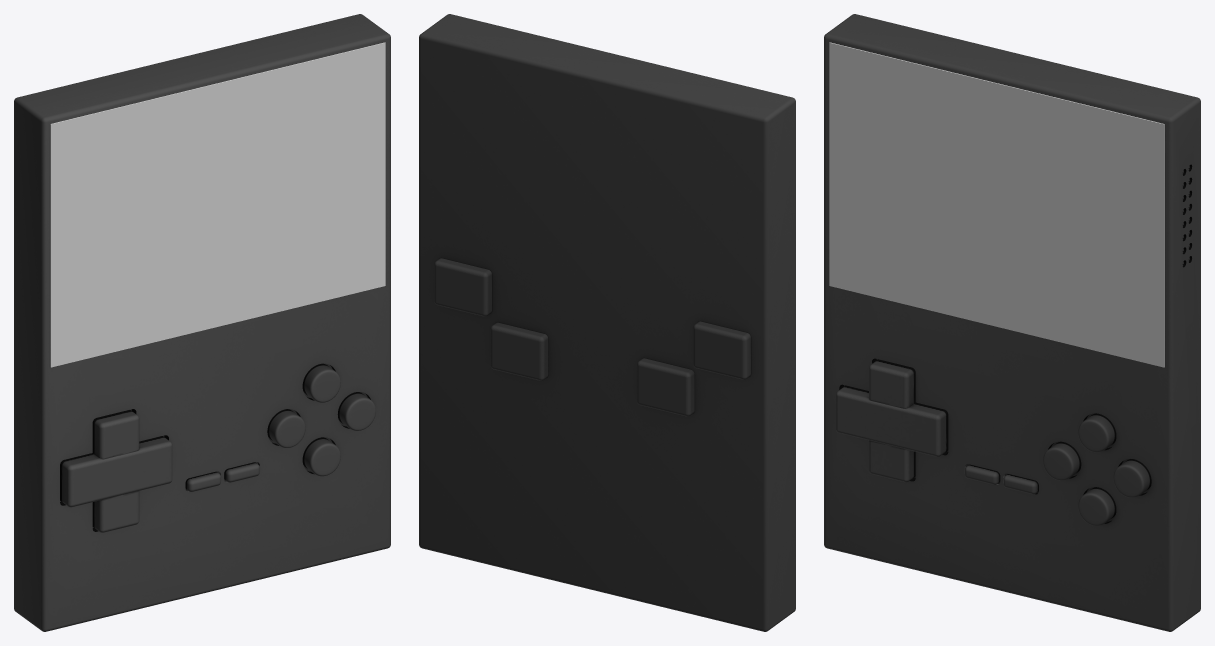
File: handheld_v4.glb
3 views of the same model, side by side, from view 1: azimuth 30°, elevation 25°; view 2: azimuth 150°, elevation 25°; view 3: azimuth 330°, elevation 25° (orthographic).
Visible parts, largest first — view 1: base, sceen, select.001, button.001, select.006; view 2: base, speacer.003, speacer.004, speacer.002, speacer.005; view 3: base, sceen, select.001, button.001, select.006.
Boxes of the visible parts, x1,y1,x2,y2 form: base: [14, 14, 390, 631]; sceen: [50, 42, 385, 367]; select.001: [60, 436, 172, 507]; button.001: [267, 363, 375, 476]; select.006: [92, 410, 139, 532]; base: [419, 14, 795, 631]; speacer.003: [490, 322, 548, 380]; speacer.004: [637, 358, 694, 416]; speacer.002: [434, 258, 491, 316]; speacer.005: [693, 321, 750, 379]; base: [824, 14, 1200, 631]; sceen: [829, 42, 1164, 367]; select.001: [836, 385, 948, 456]; button.001: [1043, 413, 1151, 525]; select.006: [869, 359, 915, 482].
Size of the model in its own units: 0.2828 by 0.398 by 0.0608.
2 materials, 1 textured.
